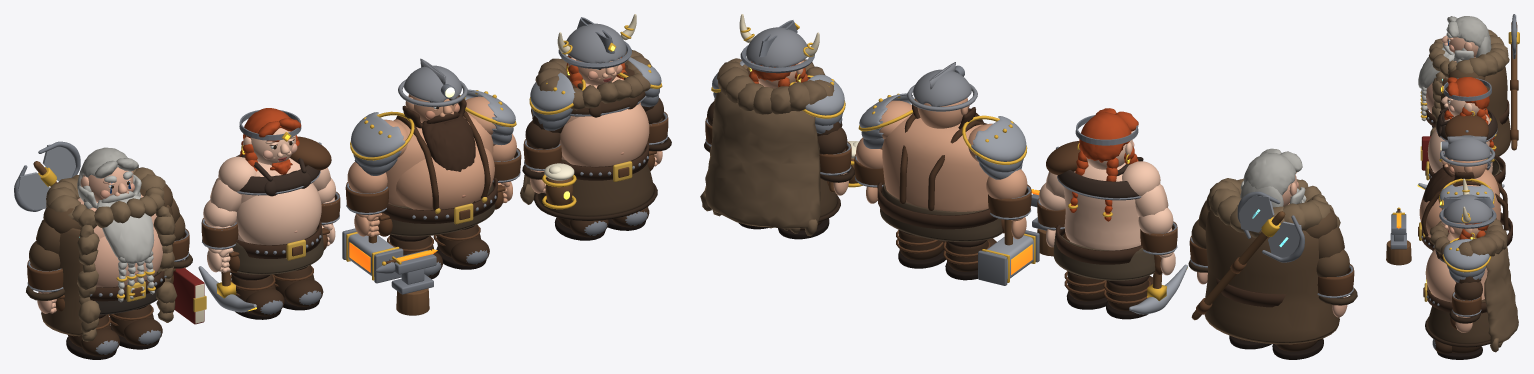
File: nains.glb
The picture shows the model from 3 angles, left to right: view 1: azimuth 30°, elevation 25°; view 2: azimuth 150°, elevation 25°; view 3: azimuth 270°, elevation 25°; orthographic projection. The views are drawn at different scales.
Parts seen in each view (by area): view 1: Gaspard_Buste_Fourrure, Brom_Buste_Peau, Liesel_Buste_Peau, Margot_Buste_Peau, Gaspard_Tete_Barbe, Gaspard_Buste_Haut, Margot_Corps_Bas, Margot_Buste_Fourrure, Brom_Tete_Barbe, Brom_Buste_Metal, Liesel_Corps_Bottes, Brom_Tete_Casque (+51 smaller); view 2: Margot_Buste_Fourrure, Gaspard_Buste_Haut, Brom_Buste_Peau, Liesel_Buste_Peau, Liesel_Tete_Cheveux, Gaspard_Buste_Fourrure, Brom_Buste_Metal, Gaspard_Tete_Cheveux, Brom_Tete_Casque, Brom_Corps_Bas, Liesel_Corps_Bas, Margot_Tete_Casque (+38 smaller); view 3: Margot_Buste_Fourrure, Gaspard_Buste_Fourrure, Gaspard_Buste_Haut, Margot_Corps_Bas, Brom_Tete_Casque, Margot_Buste_Peau, Gaspard_Tete_Cheveux, Liesel_Tete_Cheveux, Margot_Tete_Casque, Brom_Buste_Peau, Gaspard_Tete_Barbe, Liesel_Buste_Cuir (+36 smaller).
Boxes of the visible parts, x1,y1,x2,y2 form: Gaspard_Buste_Fourrure: (46,167,177,341); Brom_Buste_Peau: (384,96,495,210); Liesel_Buste_Peau: (218,156,321,245); Margot_Buste_Peau: (559,76,649,166); Gaspard_Tete_Barbe: (78,174,154,301); Gaspard_Buste_Haut: (41,184,175,336); Margot_Corps_Bas: (537,150,653,216); Margot_Buste_Fourrure: (520,50,651,204); Brom_Tete_Barbe: (402,95,475,202); Brom_Buste_Metal: (351,89,515,157); Liesel_Corps_Bottes: (231,265,323,316); Brom_Tete_Casque: (398,58,467,107); Margot_Buste_Fourrure: (700,58,834,236); Gaspard_Buste_Haut: (1204,193,1339,344); Brom_Buste_Peau: (879,100,992,211); Liesel_Buste_Peau: (1057,161,1160,250); Liesel_Tete_Cheveux: (1069,108,1138,221); Gaspard_Buste_Fourrure: (1208,178,1340,237); Brom_Buste_Metal: (859,93,1026,161); Gaspard_Tete_Cheveux: (1240,148,1304,207); Brom_Tete_Casque: (907,62,977,111); Brom_Corps_Bas: (880,183,1002,241); Liesel_Corps_Bas: (1053,231,1155,280); Margot_Tete_Casque: (746,27,807,67); Margot_Buste_Fourrure: (1429,217,1518,352); Gaspard_Buste_Fourrure: (1429,29,1509,136); Gaspard_Buste_Haut: (1440,66,1510,156); Margot_Corps_Bas: (1428,299,1490,343); Brom_Tete_Casque: (1440,135,1495,166); Margot_Buste_Peau: (1425,233,1487,302); Gaspard_Tete_Cheveux: (1447,16,1491,62); Liesel_Tete_Cheveux: (1447,77,1495,151); Margot_Tete_Casque: (1443,194,1492,223); Brom_Buste_Peau: (1419,163,1500,237); Gaspard_Tete_Barbe: (1418,43,1473,121); Liesel_Buste_Cuir: (1425,114,1488,175).
Bounding box in the file's own units: 15.77 × 4.68 × 3.72.
